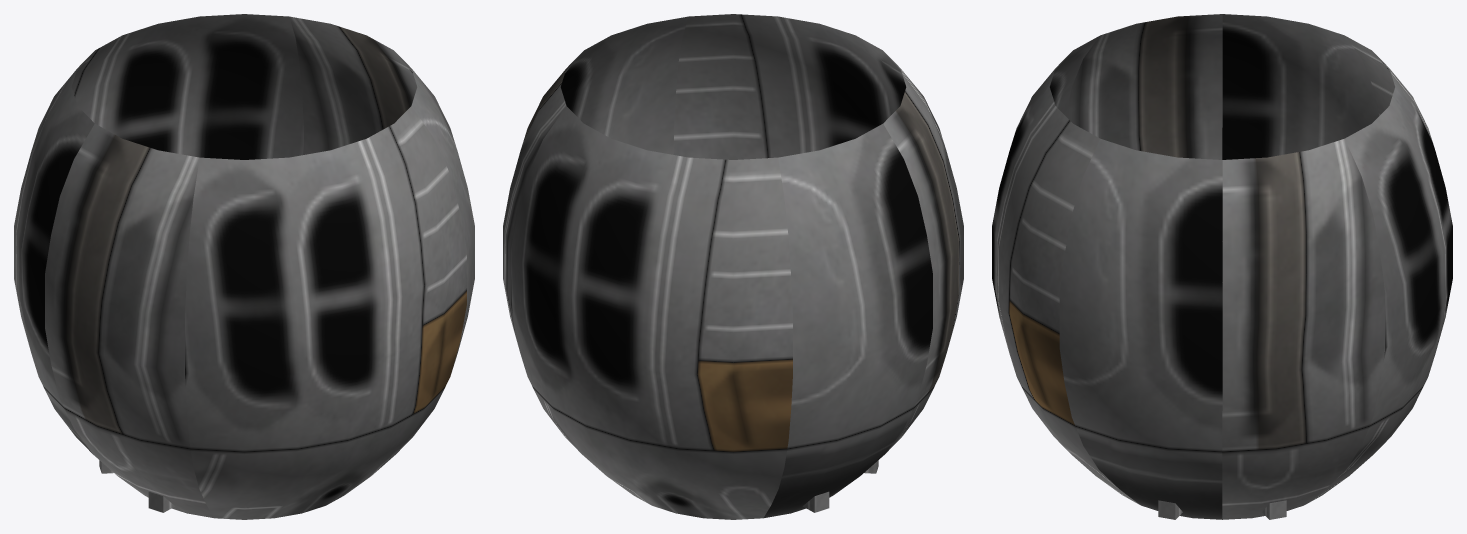
File: barebones_om.fbx
3 views of the same model, side by side, from view 1: azimuth 30°, elevation 25°; view 2: azimuth 150°, elevation 25°; view 3: azimuth 270°, elevation 25° (orthographic).
Parts seen in each view (by area): view 1: mesh; view 2: mesh; view 3: mesh.
Part boxes in pixels (x1,y1,x2,y2): mesh: (14,14,474,519); mesh: (503,14,963,519); mesh: (992,14,1452,519).
Size of the model in its own units: 1.25 by 1.15 by 1.25.
